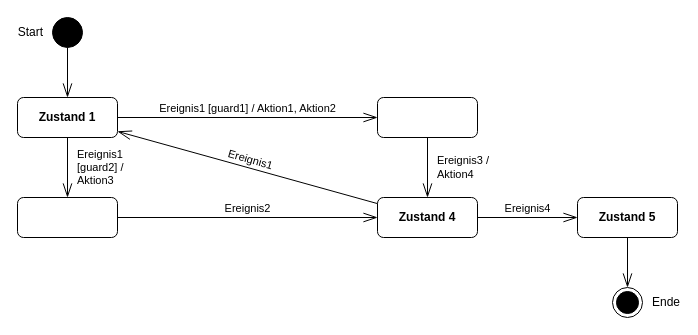
This 698x335 diagram has some shape labels left out. Each missing label, with the centre of its shape:
"Zustand 2" belongs at [427,117].
"Zustand 3" belongs at [67,217].
